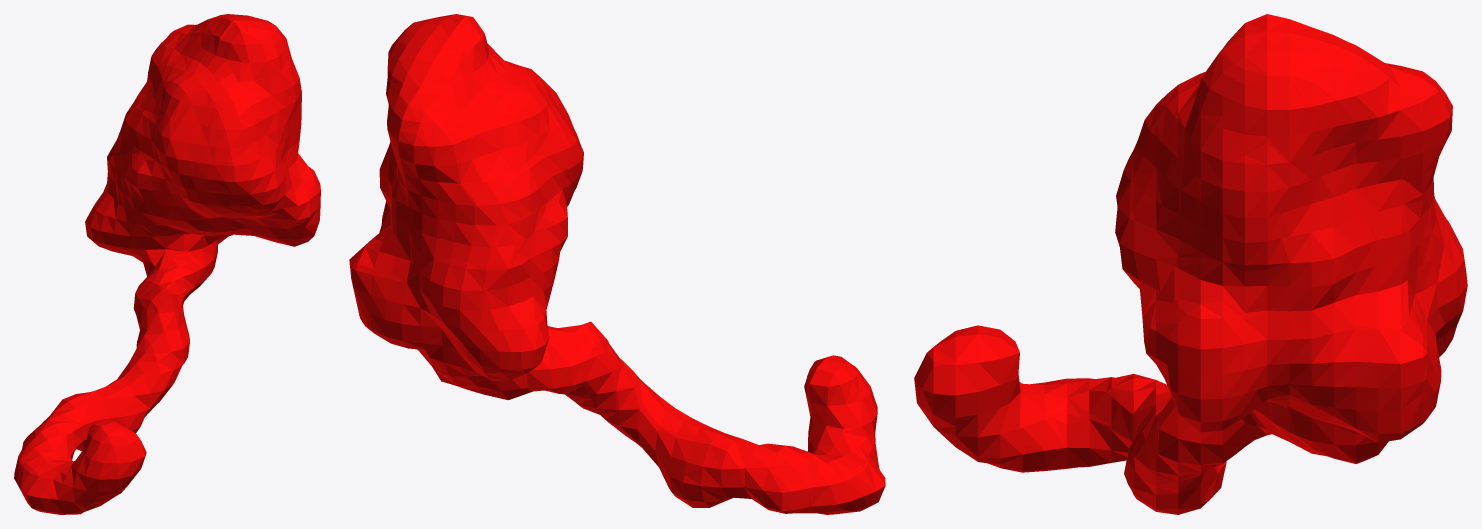
File: nuoI_coarse.dae
3 views of the same model, side by side, from view 1: azimuth 30°, elevation 25°; view 2: azimuth 150°, elevation 25°; view 3: azimuth 270°, elevation 25° (orthographic). The views are drawn at different scales.
Visible parts, largest first — view 1: nuoI; view 2: nuoI; view 3: nuoI.
Boxes of the visible parts, x1=… form: nuoI: x1=14, y1=14, x2=320, y2=514; nuoI: x1=349, y1=14, x2=885, y2=514; nuoI: x1=914, y1=14, x2=1467, y2=514.
Size of the model in its own units: 73.64 by 79.26 by 61.3.
